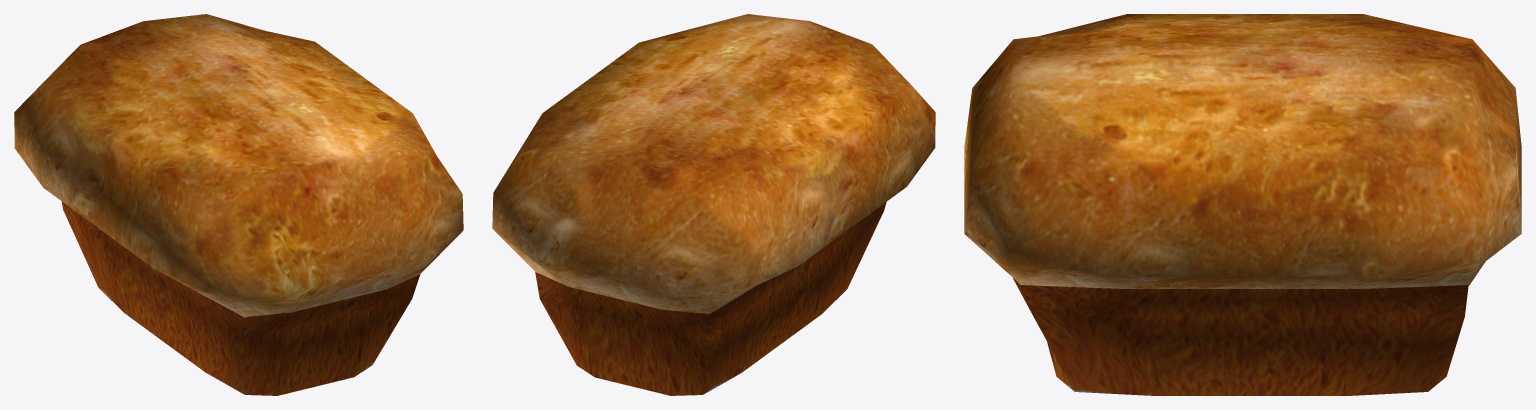
File: bread.fbx
3 views of the same model, side by side, from view 1: azimuth 30°, elevation 25°; view 2: azimuth 150°, elevation 25°; view 3: azimuth 270°, elevation 25° (orthographic). The views are drawn at different scales.
Parts seen in each view (by area): view 1: Cube; view 2: Cube; view 3: Cube.
Boxes of the visible parts, left/top/right/bottom form: Cube: left=14, top=14, right=463, bottom=395; Cube: left=492, top=14, right=935, bottom=395; Cube: left=964, top=14, right=1521, bottom=395.
Size of the model in its own units: 1.67 by 1.39 by 2.36.
